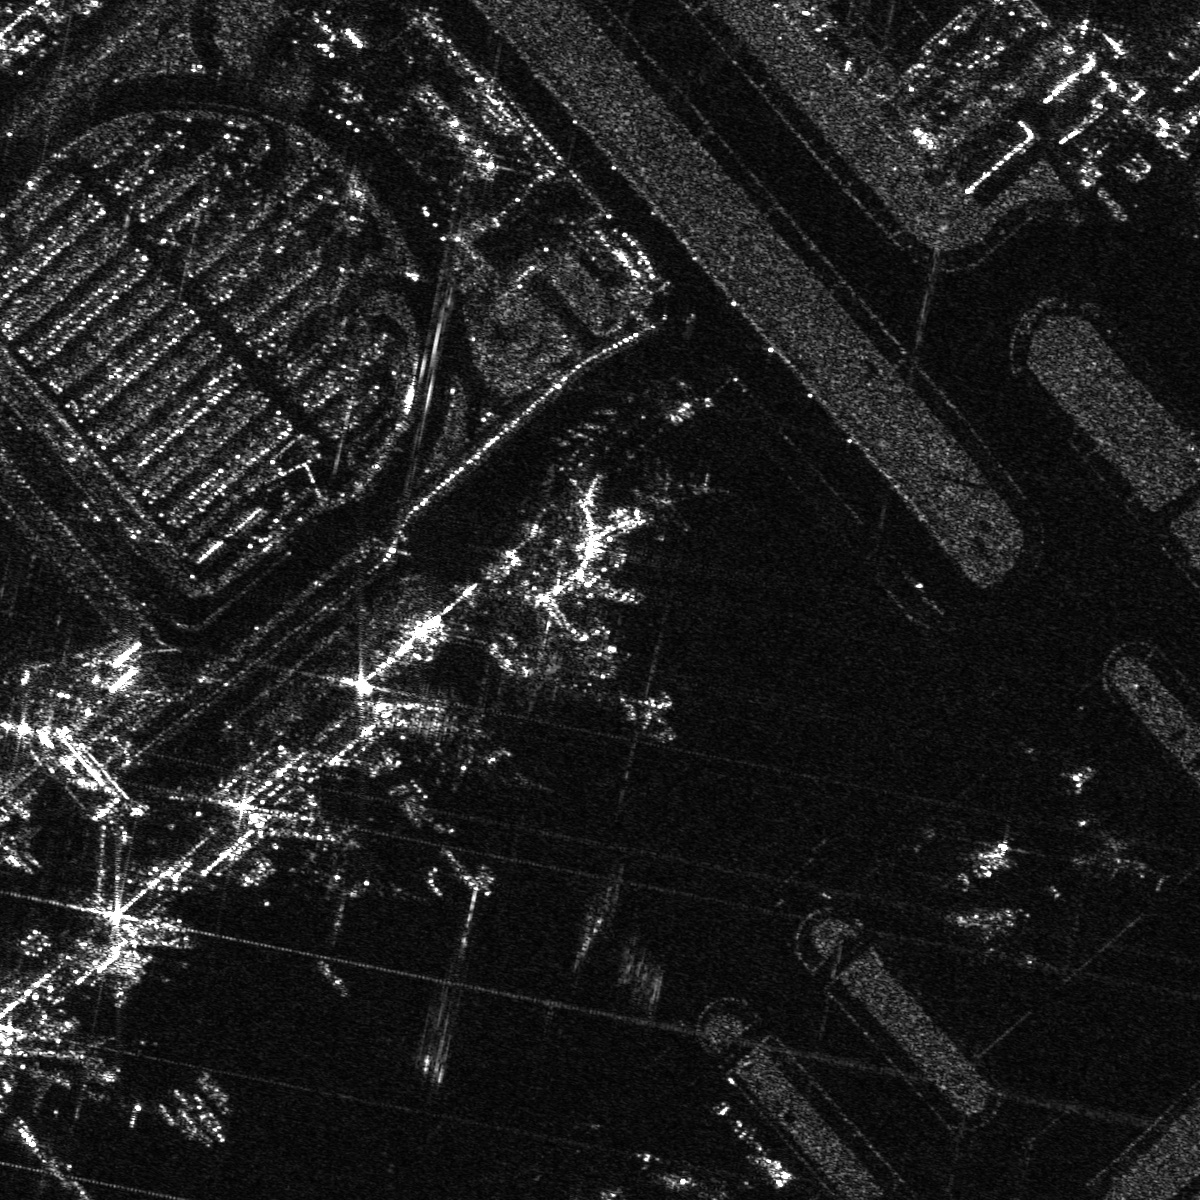A330: (31, 1026, 151, 1126)
Boeing737: (1075, 805, 1173, 891), (940, 889, 1037, 970), (616, 688, 687, 746)
